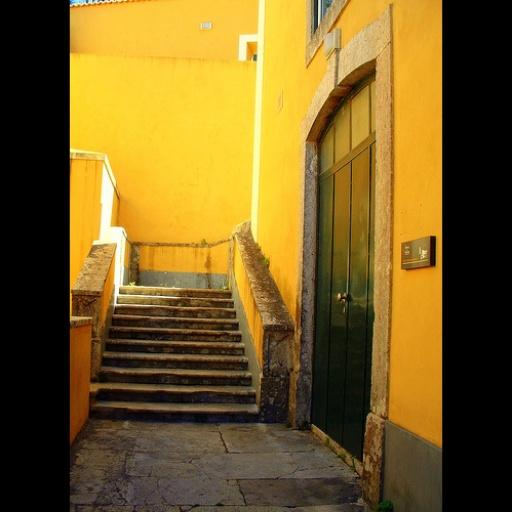stairs: (90, 286, 258, 421)
